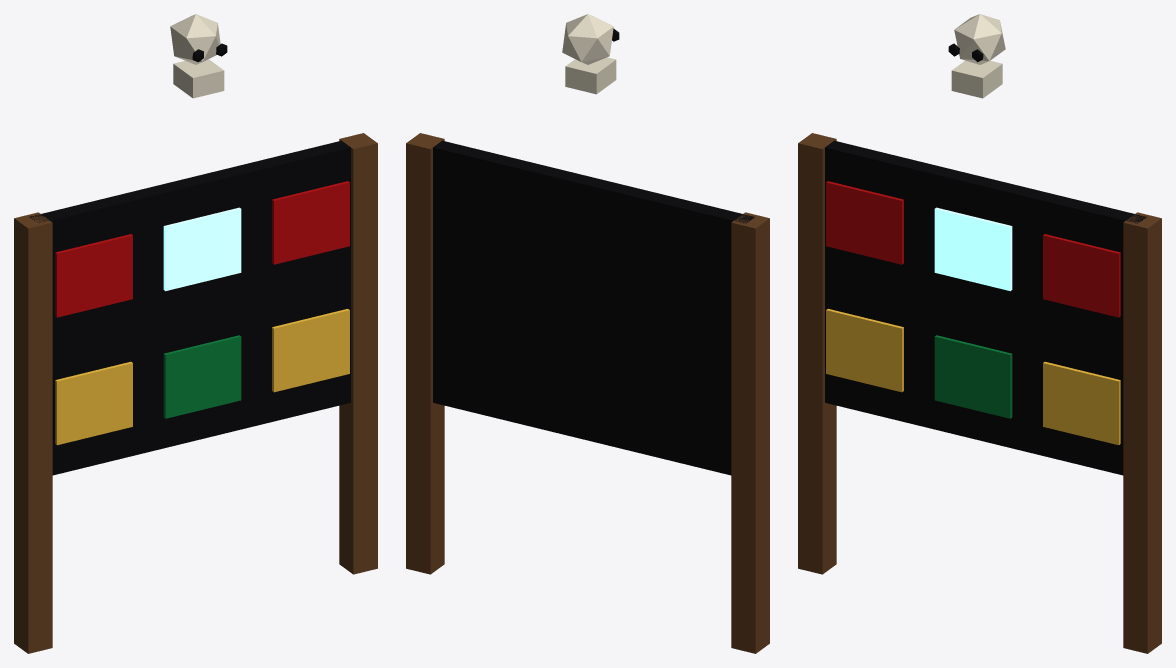
The model's file is Prop_OR_OddsBoard_00.glb.
The picture shows the model from 3 angles, left to right: view 1: azimuth 30°, elevation 25°; view 2: azimuth 150°, elevation 25°; view 3: azimuth 330°, elevation 25°; orthographic projection.
Parts seen in each view (by area): view 1: Prop_OR_OddsBoard_00; view 2: Prop_OR_OddsBoard_00; view 3: Prop_OR_OddsBoard_00.
Part boxes in pixels (<box>): Prop_OR_OddsBoard_00: <box>14,14,377,653</box>; Prop_OR_OddsBoard_00: <box>406,14,769,653</box>; Prop_OR_OddsBoard_00: <box>798,14,1161,653</box>.
Size of the model in its own units: 2.15 by 3.48 by 0.3057.
